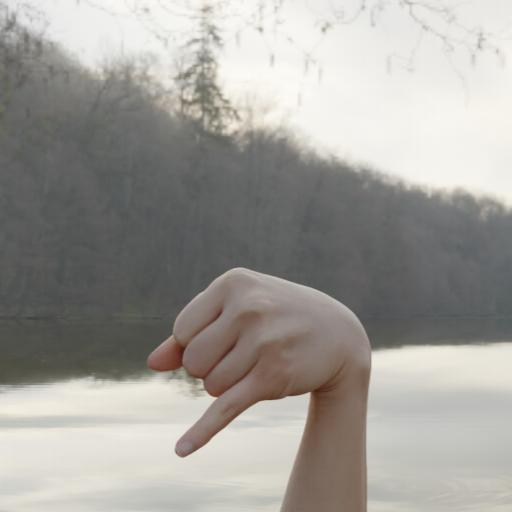J: (140, 260, 387, 470)
